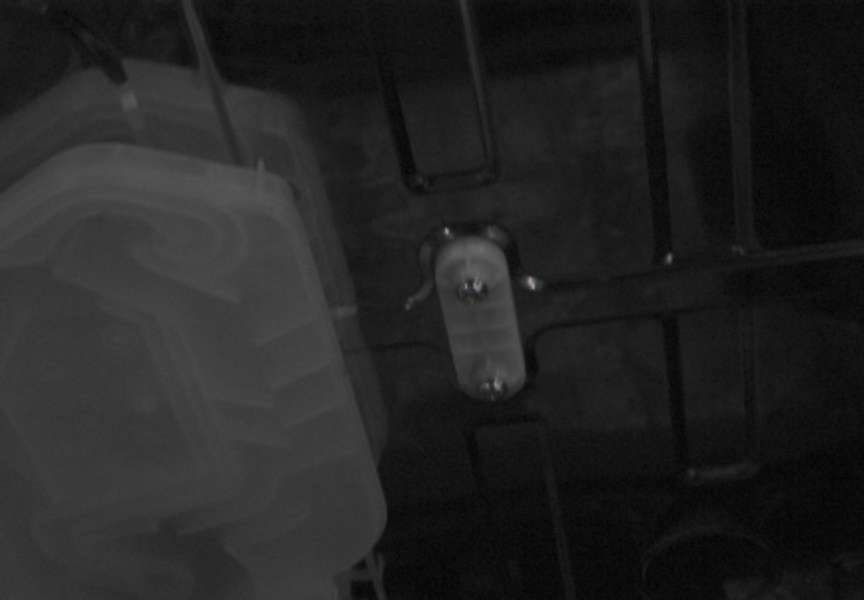screw: (456, 277, 489, 304), (478, 376, 509, 402)
